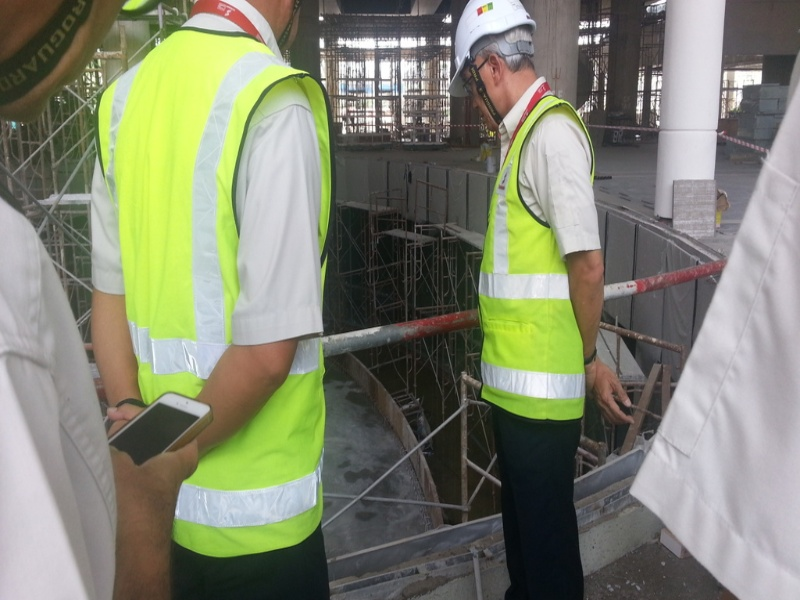Baret: (453, 1, 537, 62)
